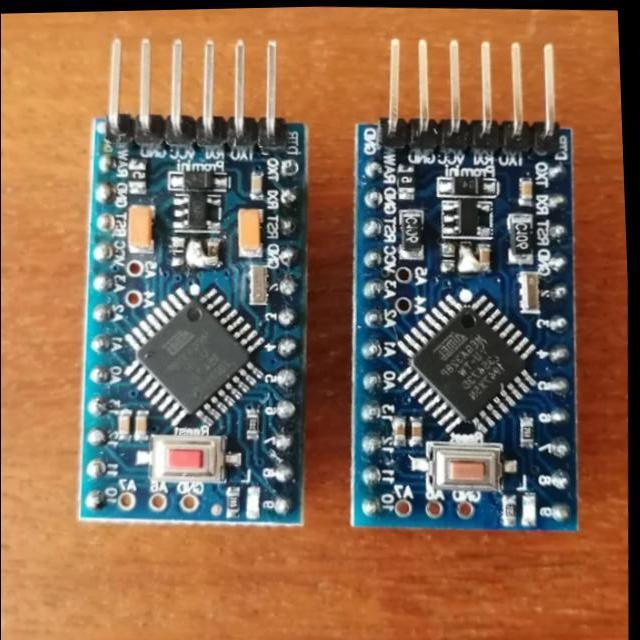Arduino-ProMini: (80, 116, 307, 524), (353, 119, 575, 530)
